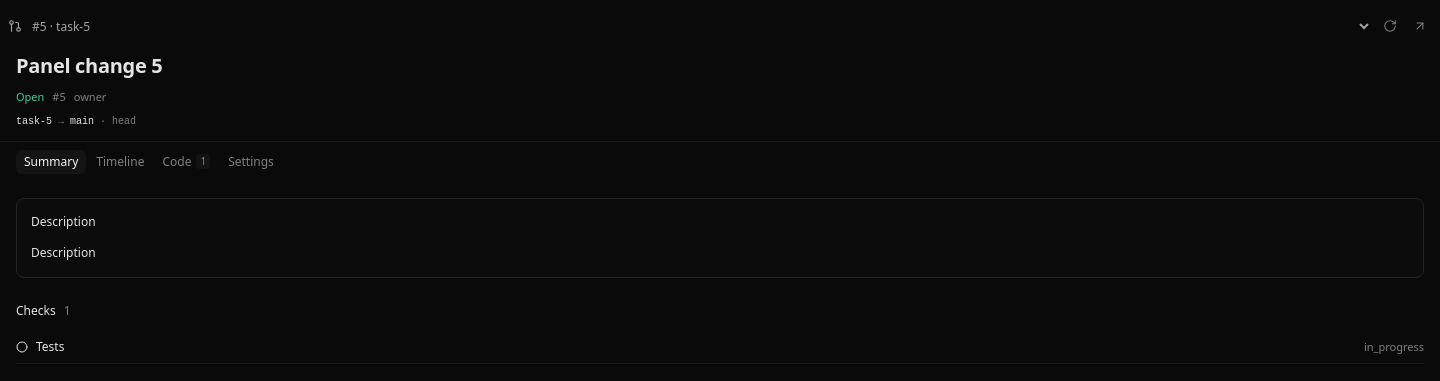
Test case: pull request panel › shows the full error after a failed pull request identity change without restoring old data
The image size is (1440, 381).
Check: the heading "Panel change 5" is shown, box [16,52,162,79]
Select "#6 · task-6" in the dropdown named "Pull request". click: (700, 26)
box: [28,16,1372,36]
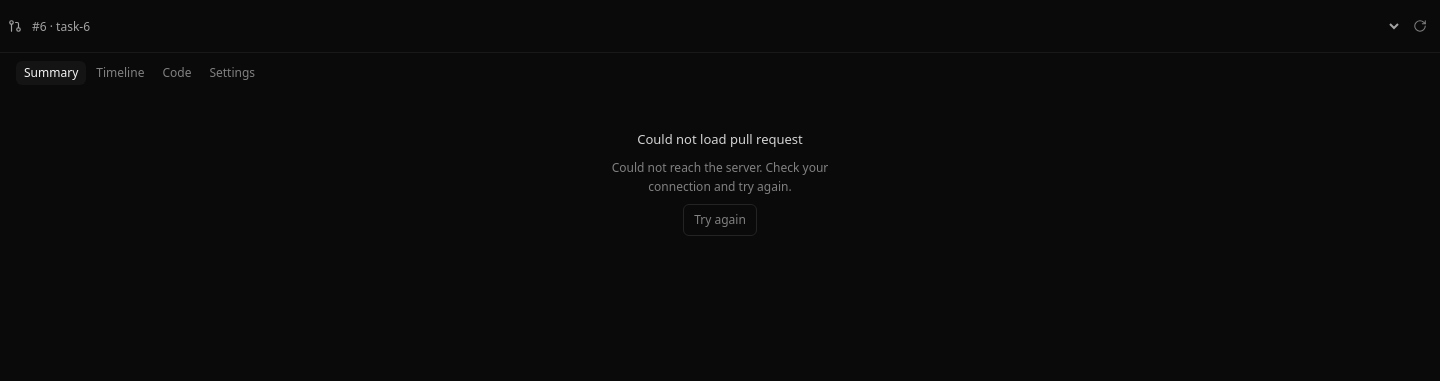
Check: the message shows "Could not load pull request", box [637,130,803,148]
Check: the heading "Panel change 5" is gone
